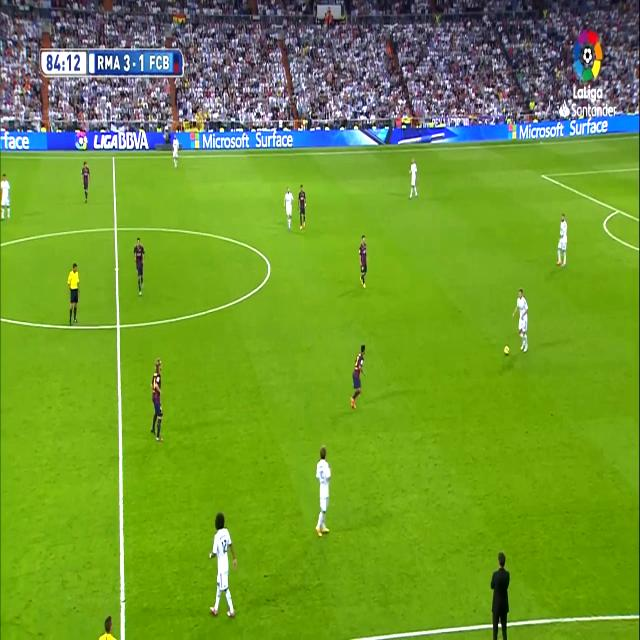halfcircle_bottom: (112, 314, 124, 338)
halfcircle_top: (111, 219, 120, 237)
midline_top_intersection: (110, 151, 117, 164)
top_arc_area_intersection: (614, 202, 621, 216)
